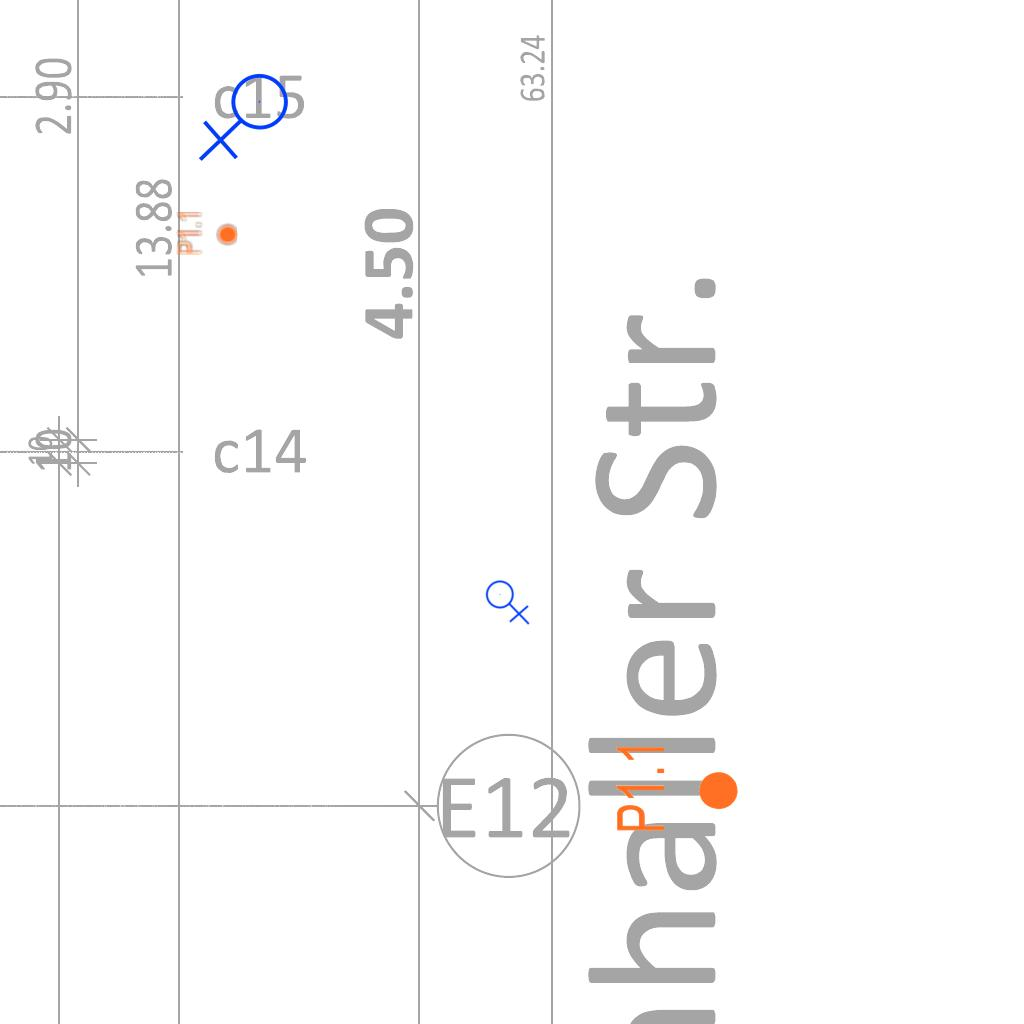Downlight_LED_Einbauleuchten_Flur: (613, 741, 741, 834), (175, 210, 239, 256)
Elektroanschluss_allgemein_230V_Geraeteanschlussdose_230V: (198, 72, 297, 166), (485, 576, 532, 625)
